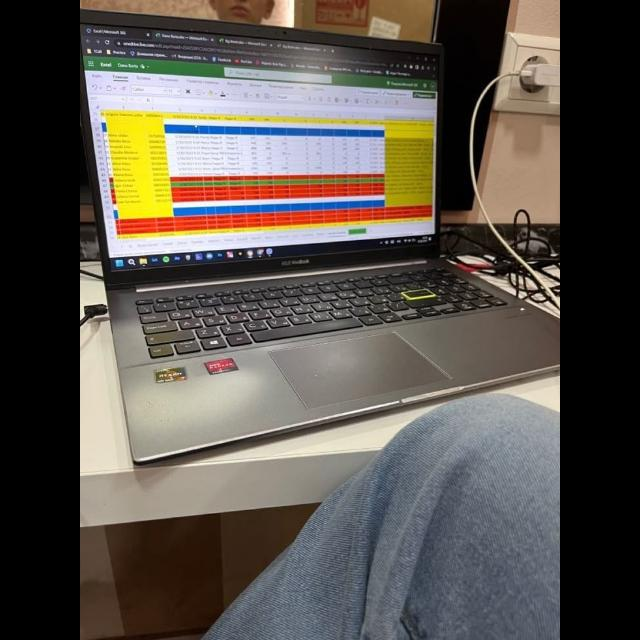laptop: (80, 10, 560, 464)
